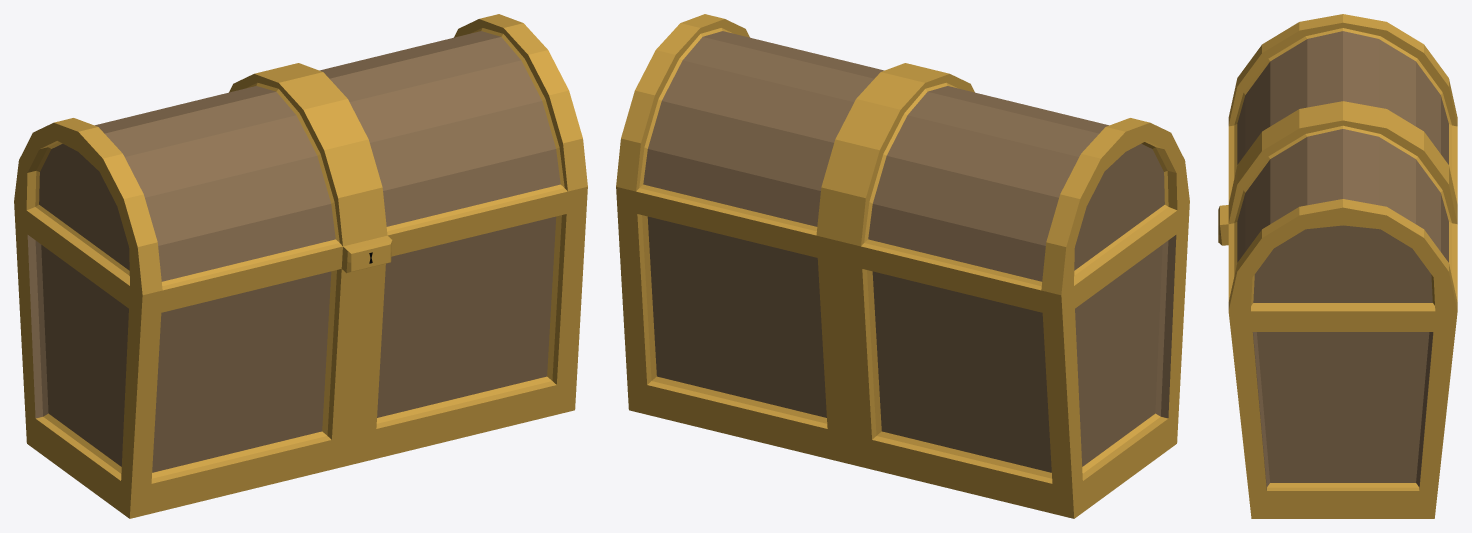
Rendered from Treasure Chest.fbx.
3 views of the same model, side by side, from view 1: azimuth 30°, elevation 25°; view 2: azimuth 150°, elevation 25°; view 3: azimuth 270°, elevation 25° (orthographic). The views are drawn at different scales.
Visible parts, largest first — view 1: Cube; view 2: Cube; view 3: Cube.
Part boxes in pixels (left/top/right/bottom): Cube: left=14, top=14, right=587, bottom=518; Cube: left=616, top=14, right=1189, bottom=518; Cube: left=1218, top=14, right=1457, bottom=518.
Size of the model in its own units: 400 by 300 by 209.
